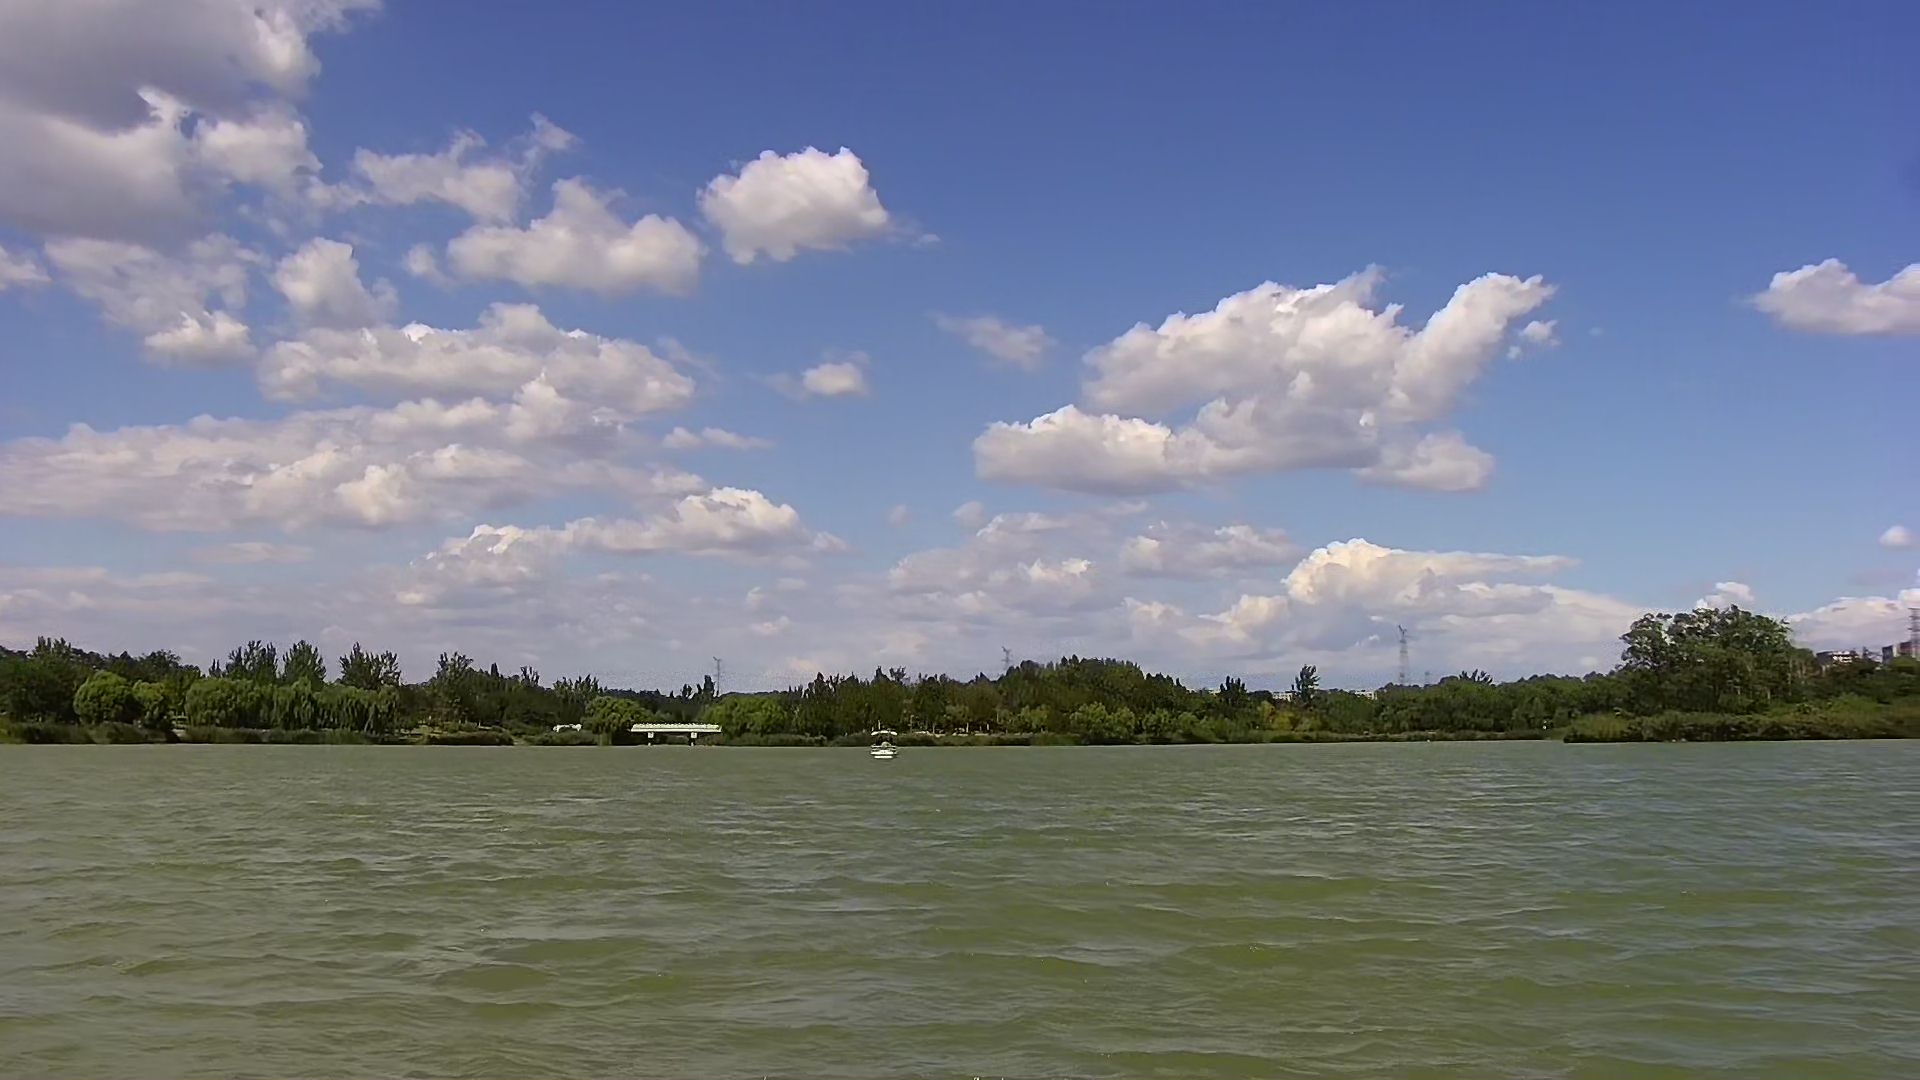boat: (872, 723, 916, 770)
bridge: (613, 708, 721, 750)
